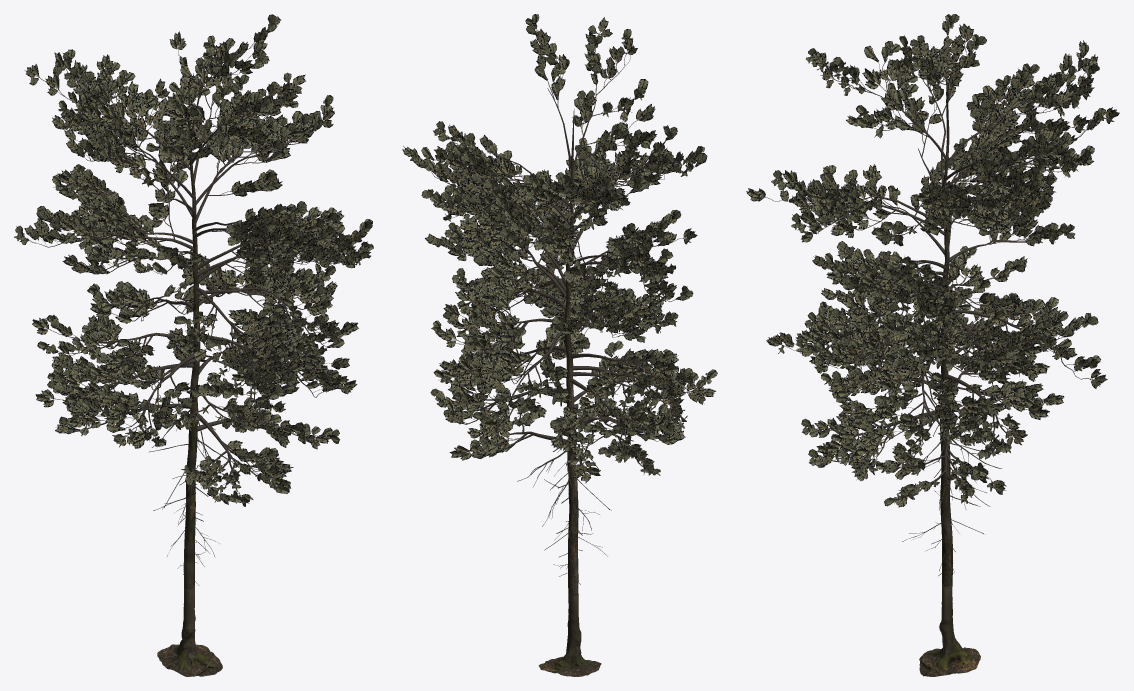
File: organic-pine_tree_01.glb
The picture shows the model from 3 angles, left to right: view 1: azimuth 30°, elevation 25°; view 2: azimuth 150°, elevation 25°; view 3: azimuth 270°, elevation 25°; orthographic projection. The views are drawn at different scales.
Visible parts, largest first — view 1: canopy-near; view 2: canopy-near; view 3: canopy-near.
Part boxes in pixels (x1,y1,x2,y2): canopy-near: (14, 14, 373, 676); canopy-near: (402, 14, 717, 676); canopy-near: (746, 14, 1119, 676).
Size of the model in its own units: 7.22 by 14.88 by 7.62.
Materials: 4 (4 with a texture image).
